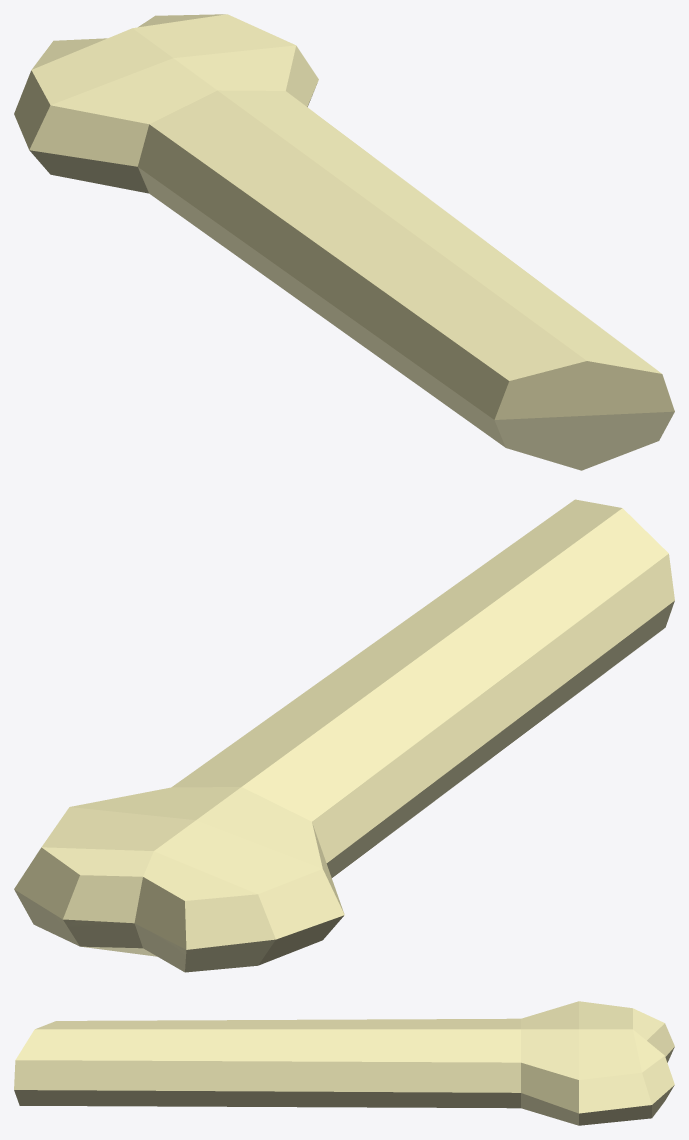
The model's file is Bone3.fbx.
The picture shows the model from 3 angles, top to bottom: view 1: azimuth 30°, elevation 25°; view 2: azimuth 150°, elevation 25°; view 3: azimuth 270°, elevation 25°; orthographic projection. The views are drawn at different scales.
Visible parts, largest first — view 1: polySurface1; view 2: polySurface1; view 3: polySurface1.
Part boxes in pixels (<box>): polySurface1: <box>14,14,674,470</box>; polySurface1: <box>14,499,674,972</box>; polySurface1: <box>14,1001,674,1125</box>.
Size of the model in its own units: 0.1212 by 0.0455 by 0.364.
